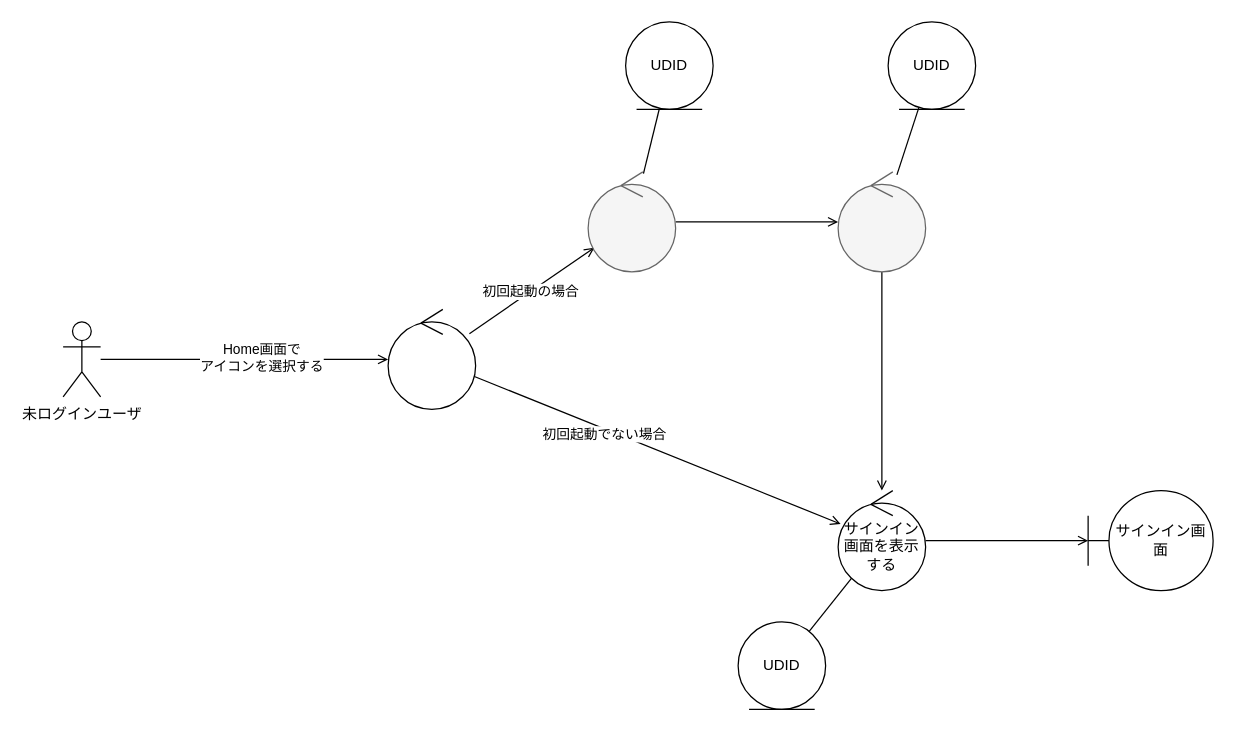
This 1235x731 diagram has some shape labels left out. Each missing label, with the centre of its shape:
"UDIDを発行する" goes at (x=631, y=221).
"UDIDを端末内に保存する" goes at (x=881, y=221).
"初回起動か確認する" goes at (x=431, y=358).
